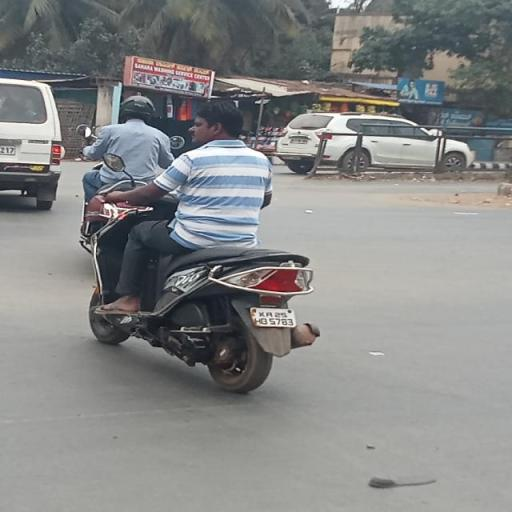bike: (81, 96, 329, 396)
numberplate: (250, 309, 300, 327)
withouthelmet: (195, 103, 243, 139)
